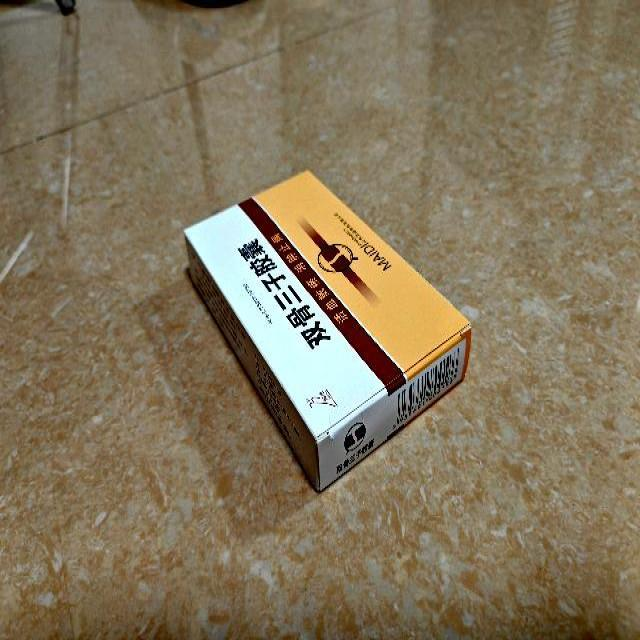box: (182, 167, 470, 494)
